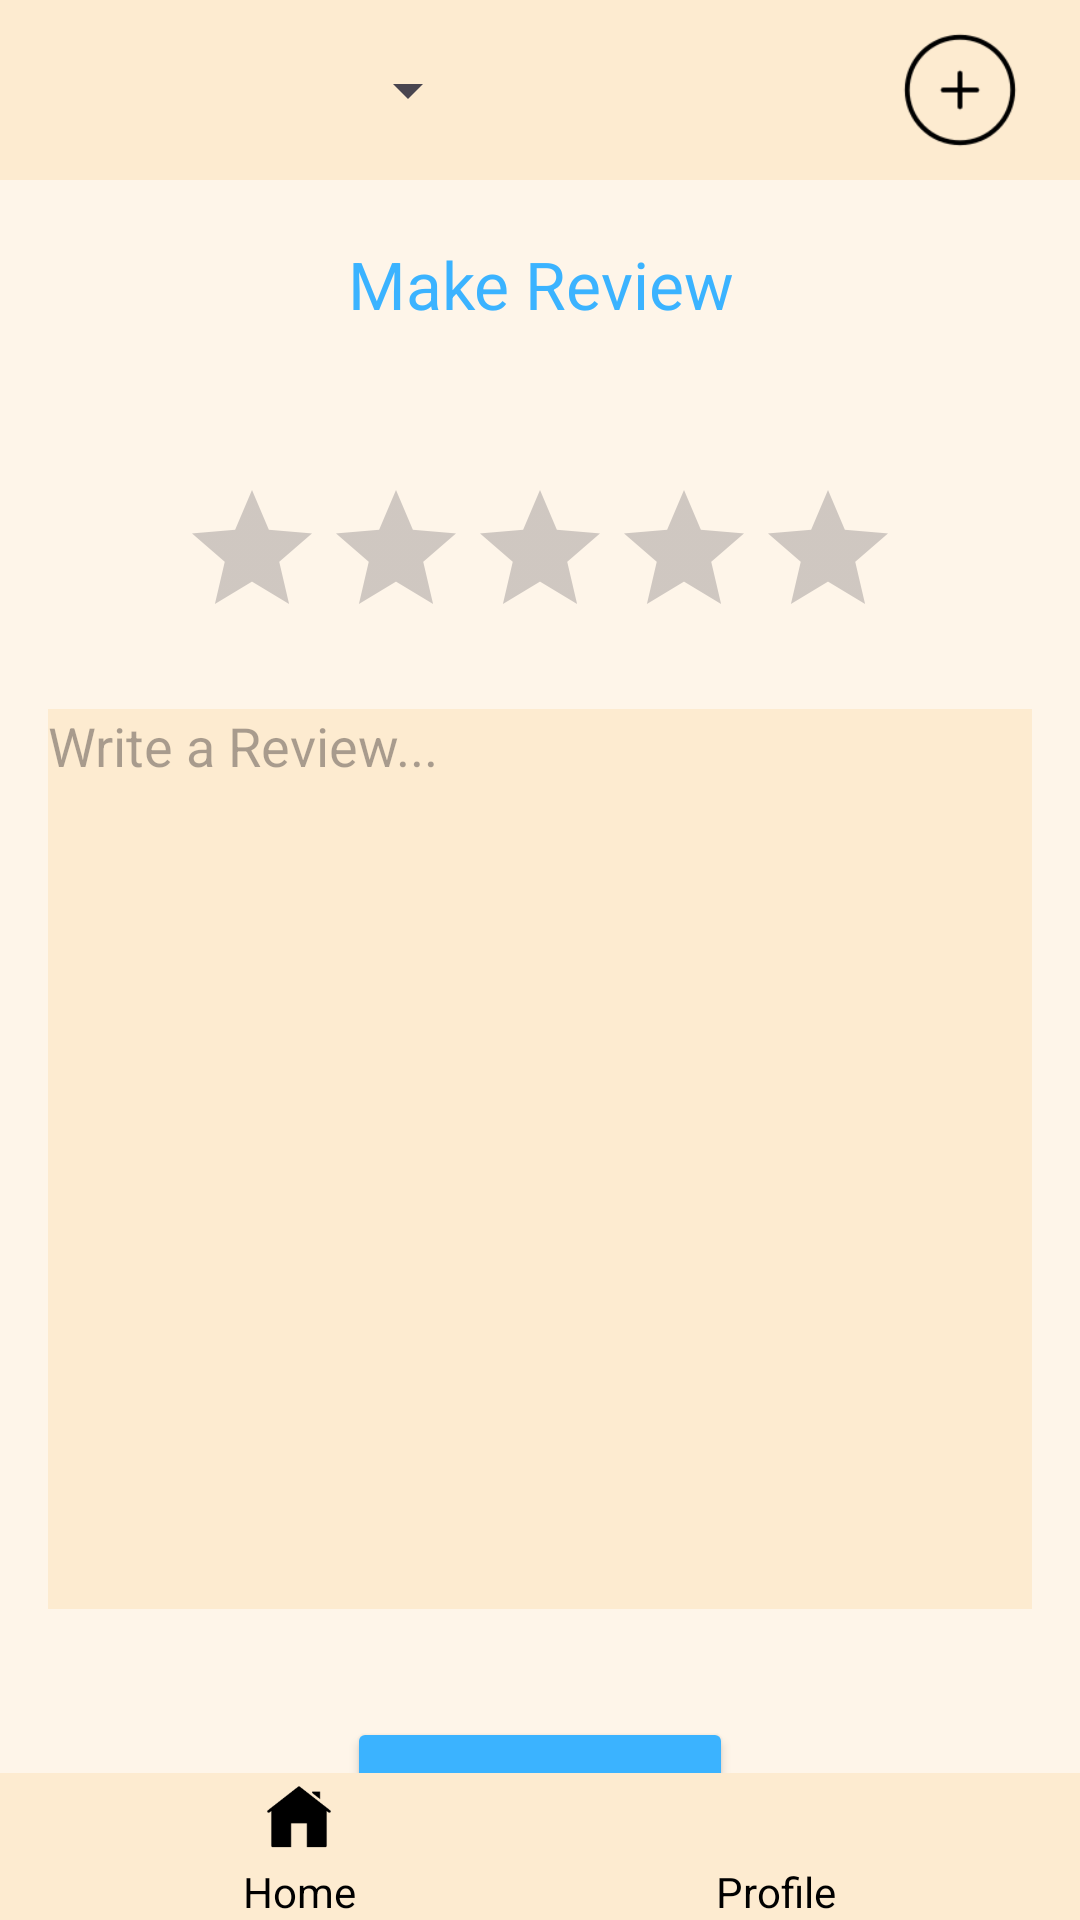

Named icons in this screenshot (1080x1920) and their bounding boxes, (x1, y1, x2, y2):
add: (904, 34, 1016, 146)
